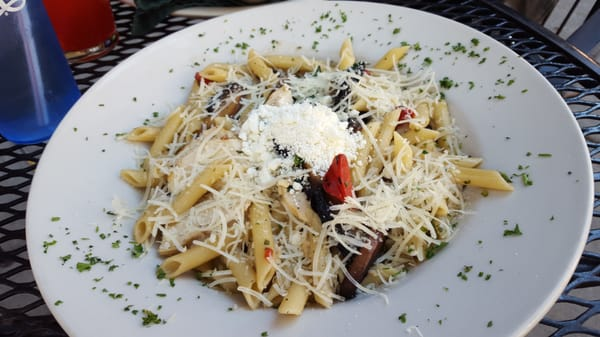pizza: (0, 3, 82, 145)
